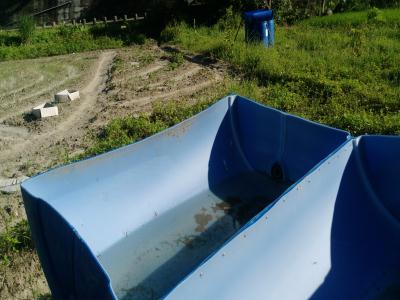box: (21, 93, 353, 298), (29, 101, 60, 120), (52, 88, 81, 105)
bucket: (244, 21, 268, 48)
